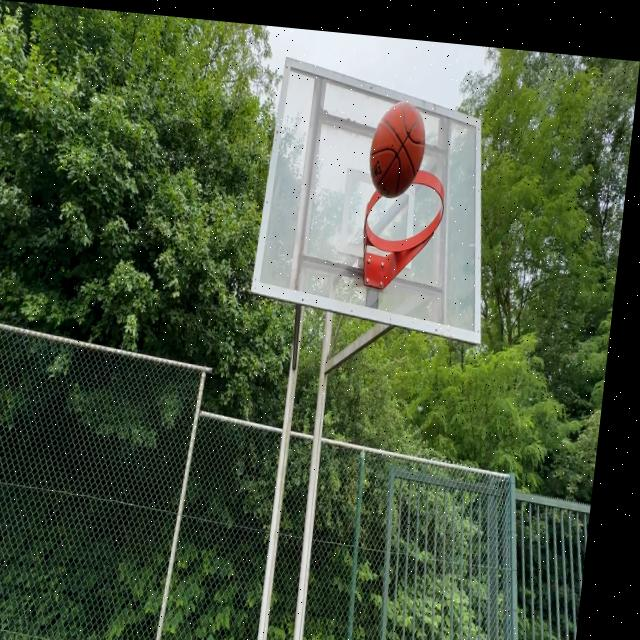Basketball: (367, 98, 432, 200)
